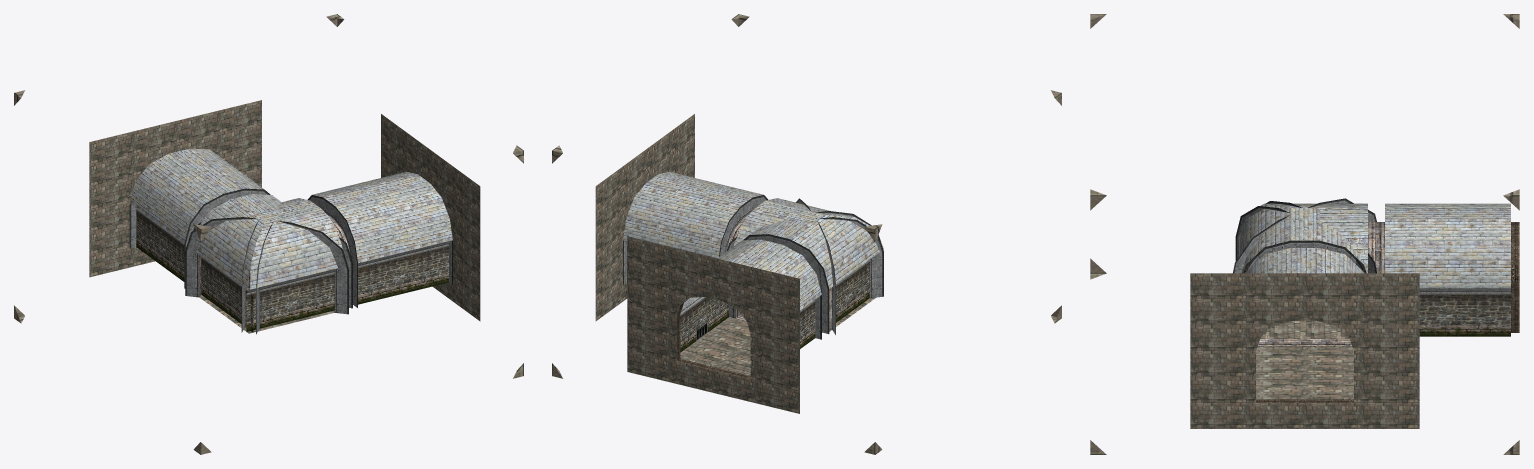
File: lbg_2l.glb
3 renders of one model, left to right at view 1: azimuth 30°, elevation 25°; view 2: azimuth 150°, elevation 25°; view 3: azimuth 270°, elevation 25°, orthographic. The views are drawn at different scales.
Visible parts, largest first — view 1: lbg_2l-col; view 2: lbg_2l-col; view 3: lbg_2l-col.
Boxes of the visible parts, x1,y1,x2,y2 form: lbg_2l-col: (14,14,523,454); lbg_2l-col: (552,14,1061,454); lbg_2l-col: (1090,14,1519,454).
Bounding box in the file's own units: 15 × 10 × 15.
Materials: 6 (6 with a texture image).
